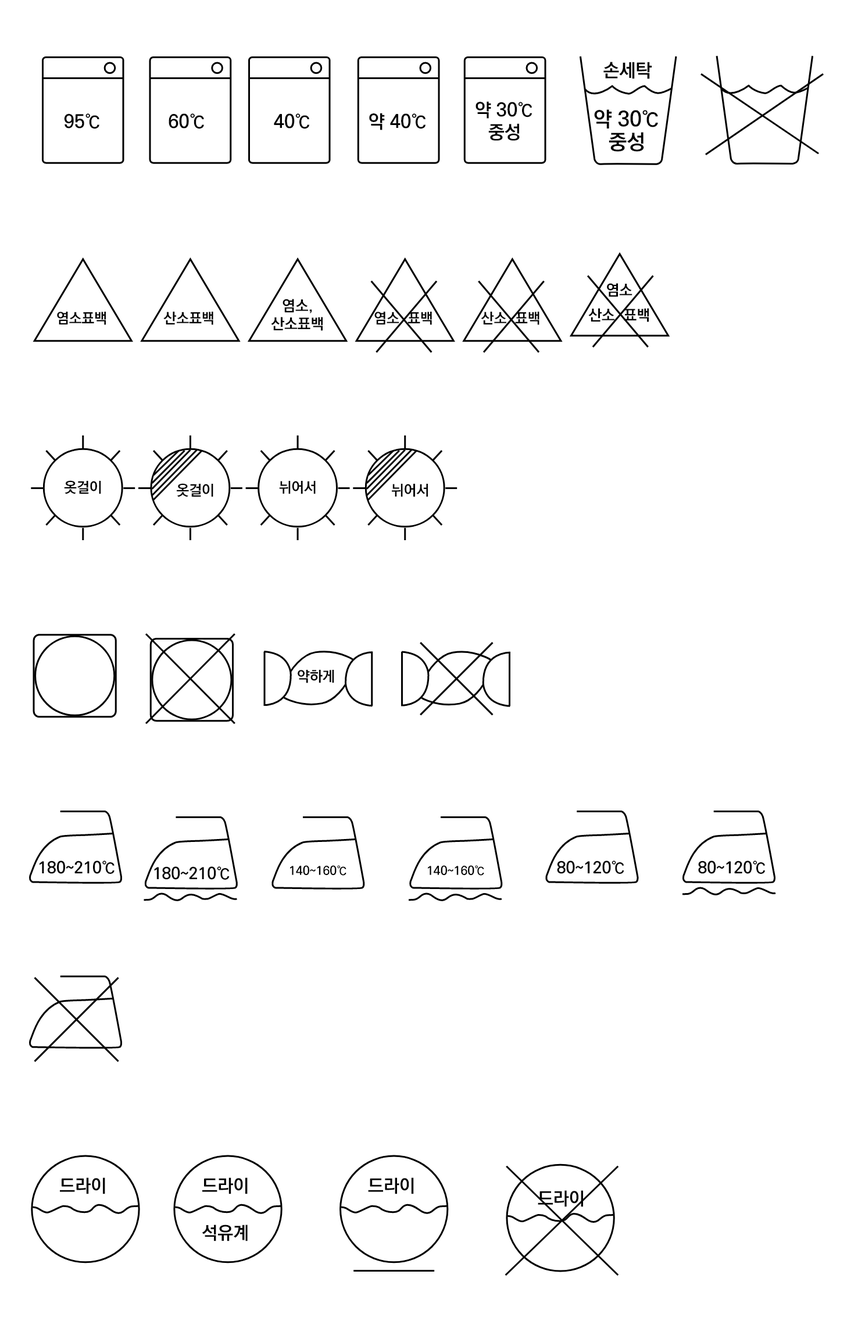KR_chlorine_bleach: (26, 252, 138, 354)
KR_chlorine_or_oxygen_bleach: (246, 255, 351, 349)
KR_dry_clean: (26, 1146, 145, 1267)
KR_dry_clean_petroleum: (167, 1149, 286, 1267)
KR_flat_dry: (246, 421, 352, 545)
KR_flat_dry_in_shade: (353, 421, 465, 546)
KR_gentle_wring: (255, 644, 379, 715)
KR_hand_wash_30_neutral: (573, 48, 680, 171)
KR_hang_dry: (15, 421, 137, 545)
KR_hang_dry_in_shade: (136, 421, 245, 549)
KR_iron_high_temp: (23, 804, 125, 889)
KR_iron_high_temp_with_cloth: (142, 810, 244, 910)
KR_iron_low_temp: (540, 803, 642, 893)
KR_iron_low_temp_with_cloth: (676, 804, 780, 902)
KR_iron_medium_temp: (269, 810, 370, 898)
KR_iron_medium_temp_with_cloth: (400, 808, 509, 908)
KR_no_bleach: (567, 255, 678, 351)
KR_no_chlorine_bleach: (353, 255, 459, 355)
KR_no_dry_clean: (496, 1153, 625, 1283)
KR_no_iron: (20, 961, 132, 1066)
KR_no_oxygen_bleach: (463, 254, 566, 355)
KR_no_tumble_dry: (139, 623, 240, 733)
KR_no_wash: (694, 48, 830, 174)
KR_no_wring: (396, 637, 518, 720)
KR_oxygen_bleach: (141, 253, 244, 349)
KR_professional_dry_clean_only: (334, 1148, 453, 1279)
KR_tumble_dry: (10, 616, 124, 750)
KR_wash_40: (243, 51, 335, 169)
KR_wash_60: (144, 50, 235, 169)
KR_wash_95: (36, 49, 129, 172)
KR_wash_warm_30_neutral: (457, 48, 552, 170)
KR_wash_warm_40: (353, 52, 443, 168)
